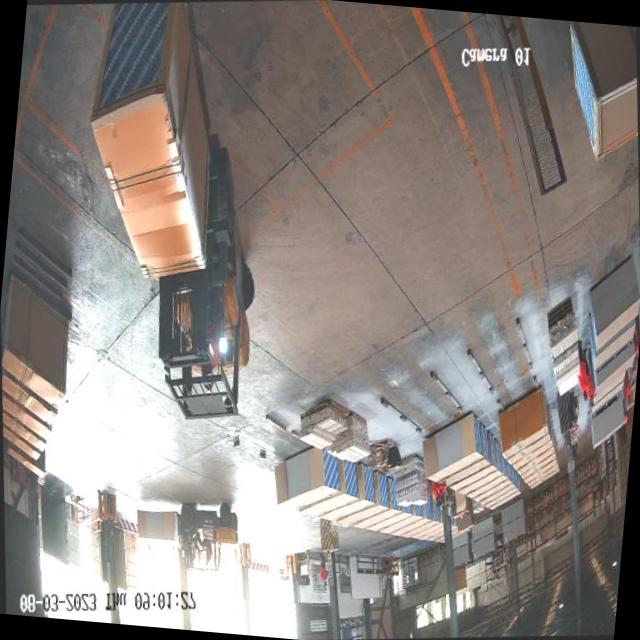forklift: (133, 147, 278, 435), (172, 491, 246, 582)
person: (570, 337, 591, 402), (581, 368, 598, 410), (430, 478, 440, 506), (319, 563, 328, 586), (437, 484, 446, 500)
